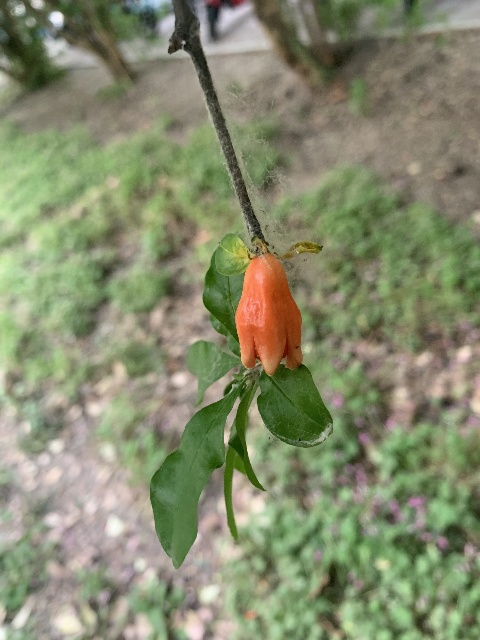flower: (234, 253, 302, 374)
